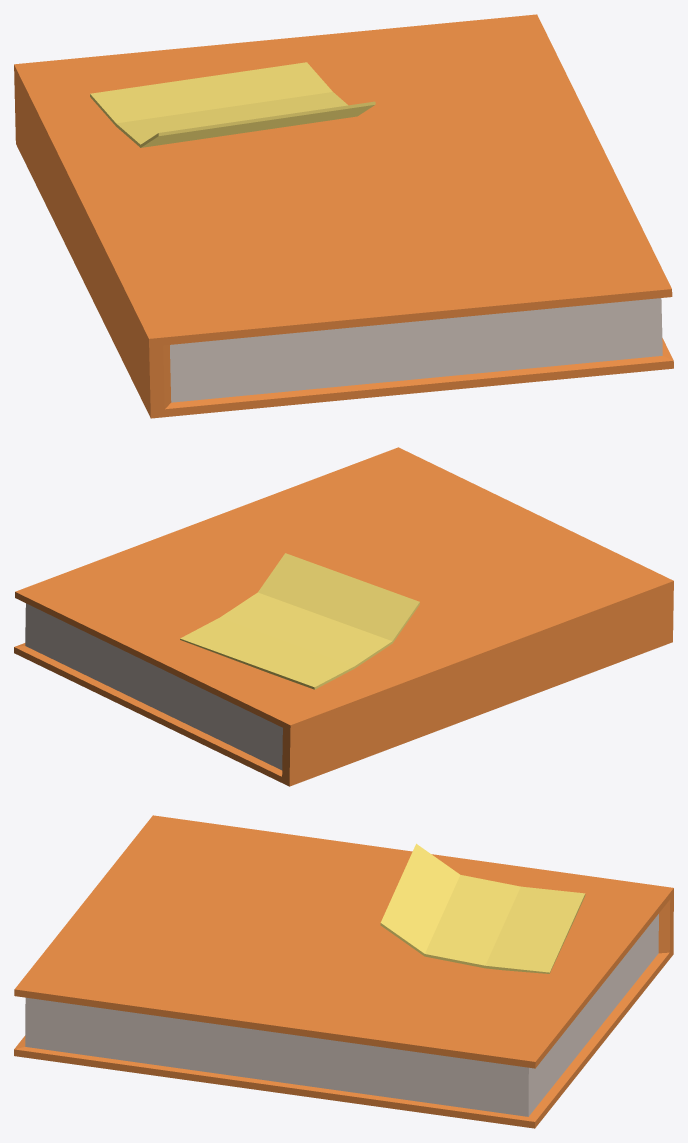
Rendered from Book_9.fbx.
3 views of the same model, one above another, from view 1: azimuth 30°, elevation 25°; view 2: azimuth 150°, elevation 25°; view 3: azimuth 270°, elevation 25° (orthographic). The views are drawn at different scales.
Visible parts, largest first — view 1: Book_9; view 2: Book_9; view 3: Book_9.
Boxes of the visible parts, x1=… form: Book_9: x1=14, y1=14, x2=673, y2=418; Book_9: x1=14, y1=447, x2=673, y2=786; Book_9: x1=14, y1=815, x2=673, y2=1128.
Bounding box in the file's own units: 29.74 × 33.09 × 5.86.
